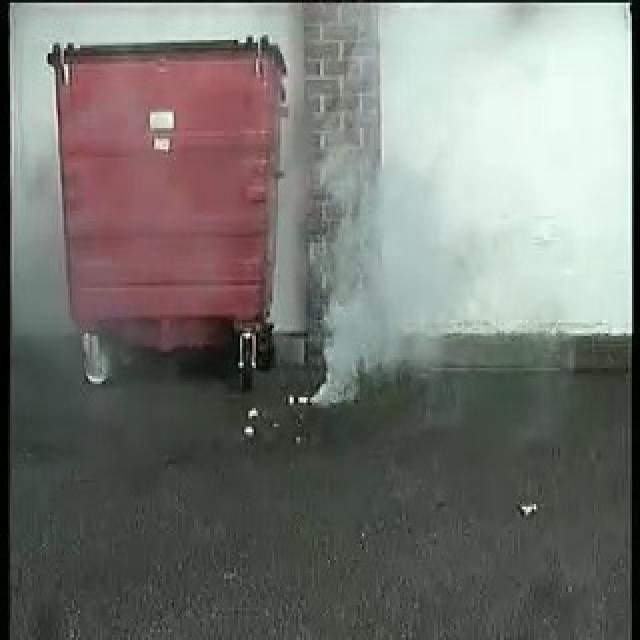smoke: (316, 176, 455, 408)
